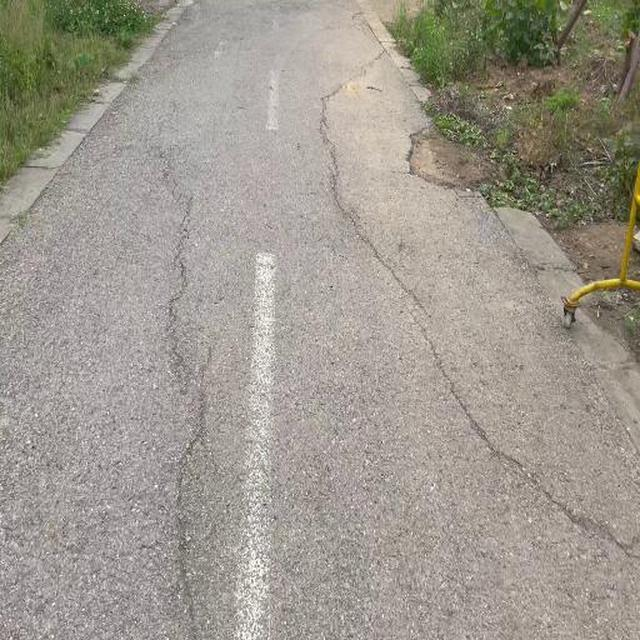Memanjang: (301, 86, 640, 569), (153, 132, 220, 640)
